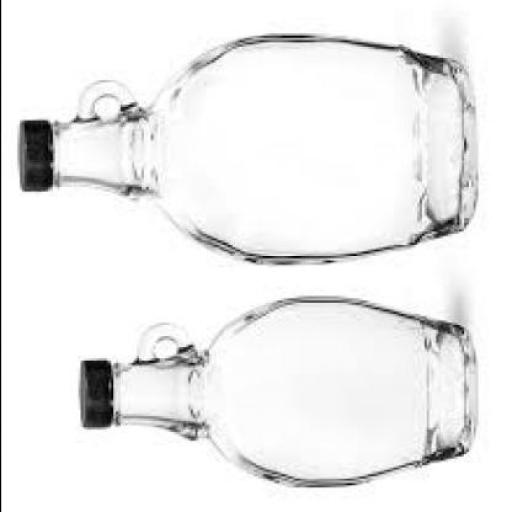glass: (47, 36, 475, 262), (108, 296, 472, 486)
metal: (12, 118, 48, 190), (75, 359, 107, 425)
